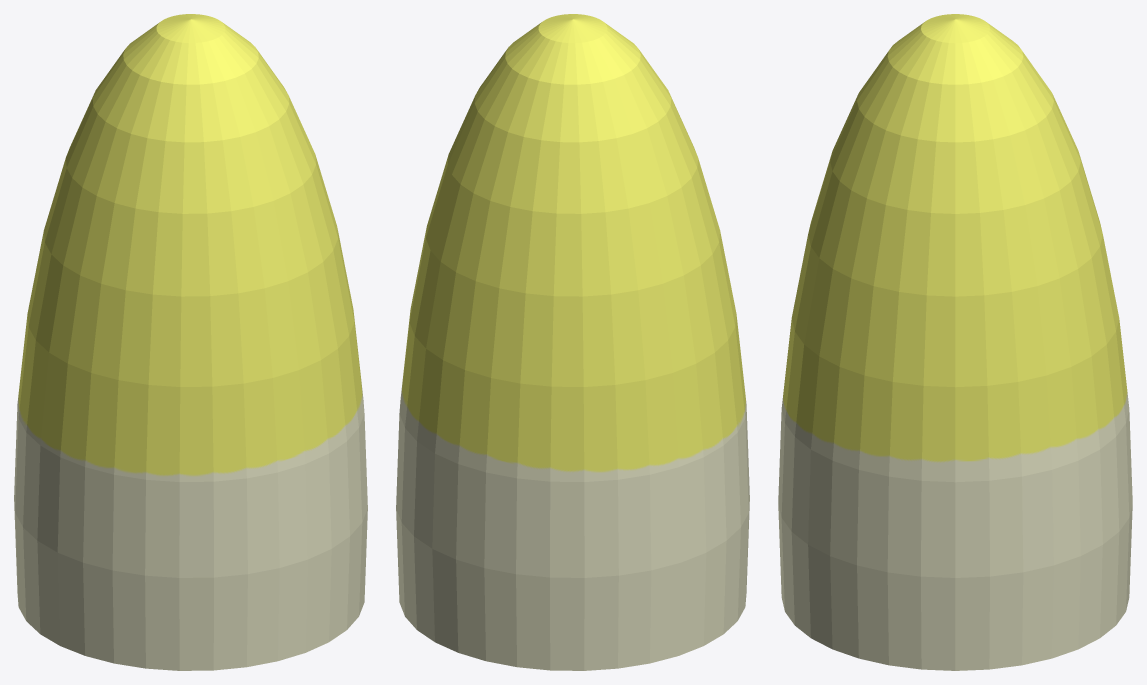
Rendered from explosion.obj.
The picture shows the model from 3 angles, left to right: view 1: azimuth 30°, elevation 25°; view 2: azimuth 150°, elevation 25°; view 3: azimuth 270°, elevation 25°; orthographic projection.
Visible parts, largest first — view 1: 球; view 2: 球; view 3: 球.
Part boxes in pixels (x1,y1,x2,y2): 球: [14, 14, 367, 670]; 球: [396, 14, 749, 670]; 球: [778, 14, 1132, 670].
Size of the model in its own units: 2 by 3.6 by 2.
1 material, 1 textured.
